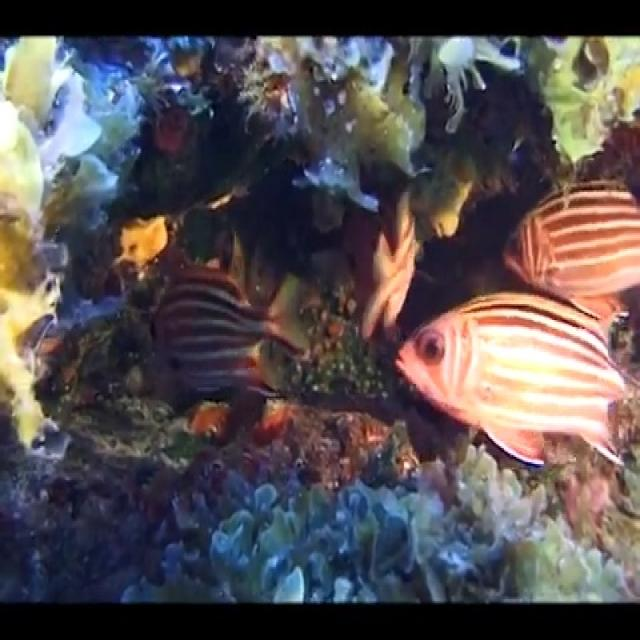Asker Baligi: (392, 286, 631, 471)
